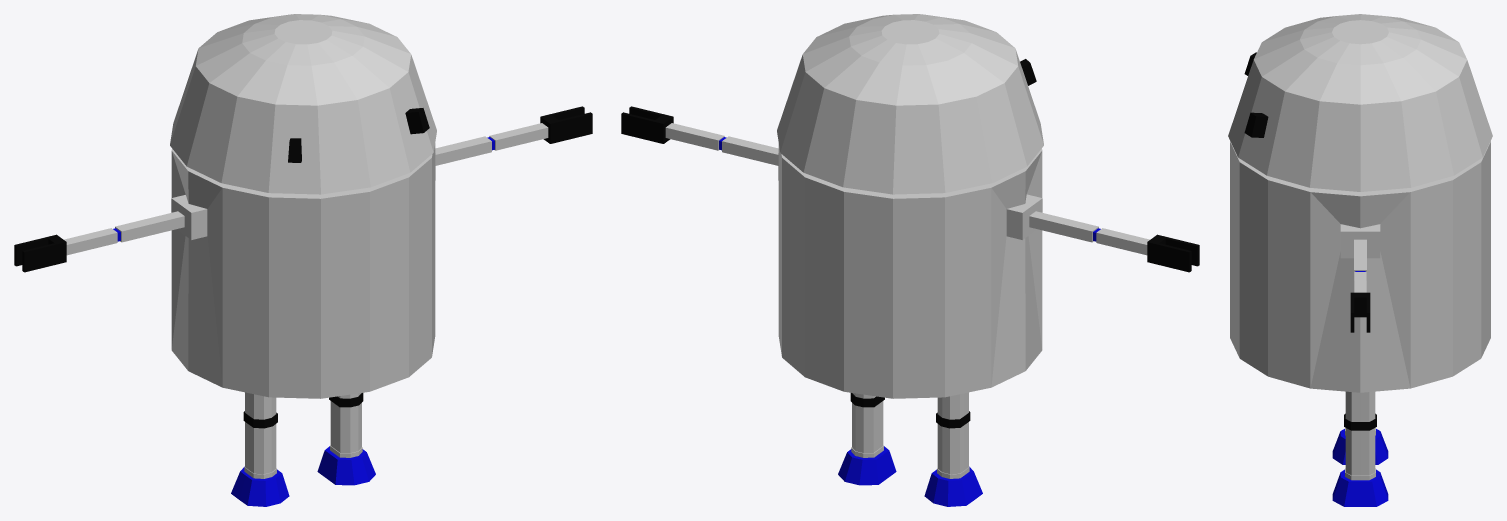
File: cuteRobot.fbx
The picture shows the model from 3 angles, left to right: view 1: azimuth 30°, elevation 25°; view 2: azimuth 150°, elevation 25°; view 3: azimuth 270°, elevation 25°; orthographic projection.
Parts seen in each view (by area): view 1: Cylinder.001; view 2: Cylinder.001; view 3: Cylinder.001.
Part boxes in pixels (<box>): Cylinder.001: <box>14,14,592,506</box>; Cylinder.001: <box>621,14,1199,506</box>; Cylinder.001: <box>1228,14,1492,506</box>.
Size of the model in its own units: 280 by 213 by 115.
